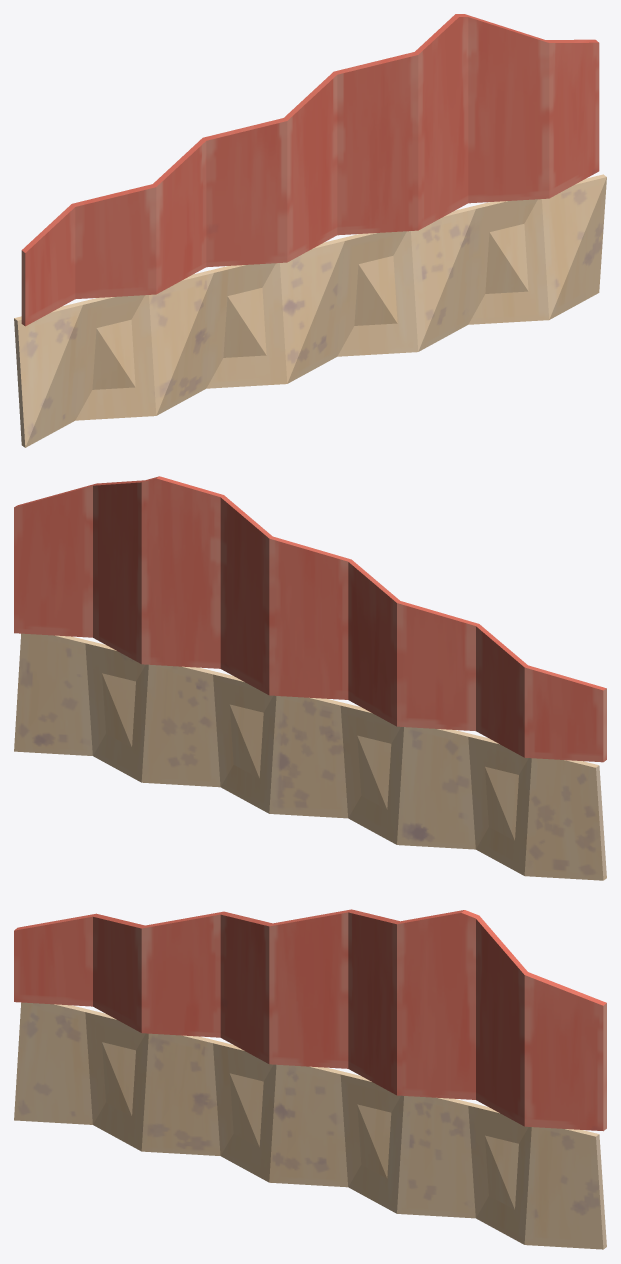
The model's file is cloth_s00.fbx.
3 renders of one model, top to bottom at view 1: azimuth 30°, elevation 25°; view 2: azimuth 150°, elevation 25°; view 3: azimuth 330°, elevation 25°, orthographic. The views are drawn at different scales.
Visible parts, largest first — view 1: cloth_s00; view 2: cloth_s00; view 3: cloth_s00.
Part boxes in pixels (left/top/right/bottom): cloth_s00: left=14, top=14, right=606, bottom=447; cloth_s00: left=14, top=476, right=606, bottom=880; cloth_s00: left=14, top=909, right=606, bottom=1249.
Size of the model in its own units: 6.6 by 3.35 by 0.37.
